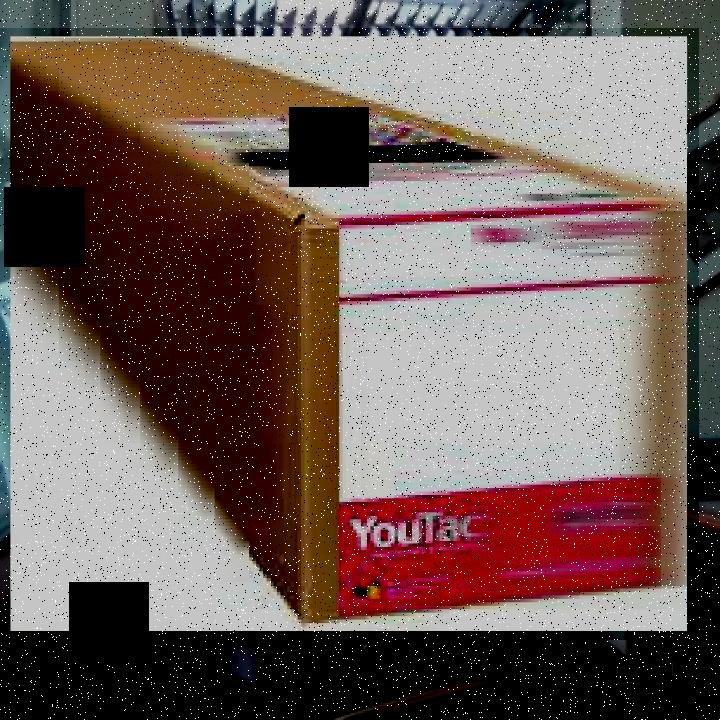box: (0, 28, 699, 640)
